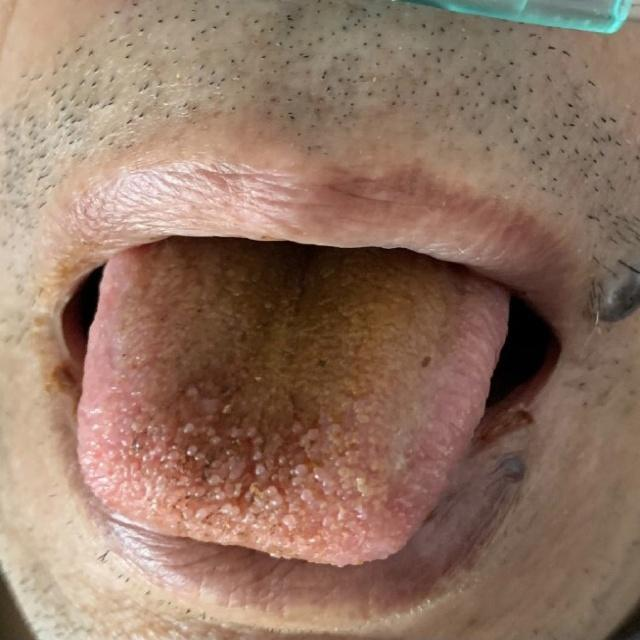huangtaishe: (71, 240, 512, 568)
